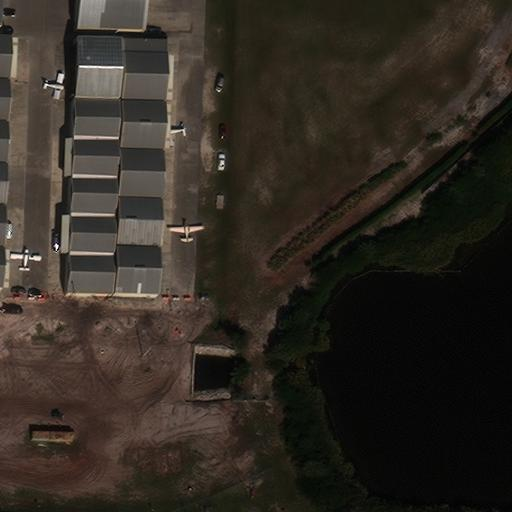Small Civil Transport: (168, 219, 203, 242), (11, 247, 41, 272), (44, 74, 65, 99)
